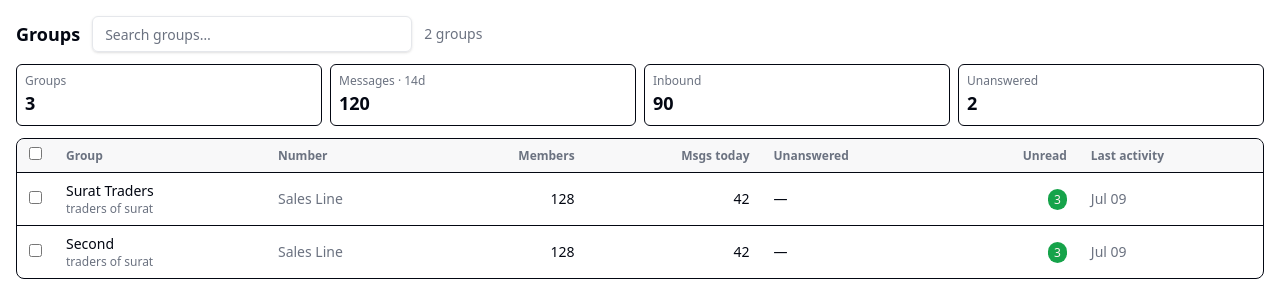
Test: GroupsPage › bulk select tracks rows and select-all toggles
What coordinates should you click on to do the following:
click the checkbox named "Select Surat Traders"
I would click on:
 (36, 198)
Its box is [29,191,42,204].
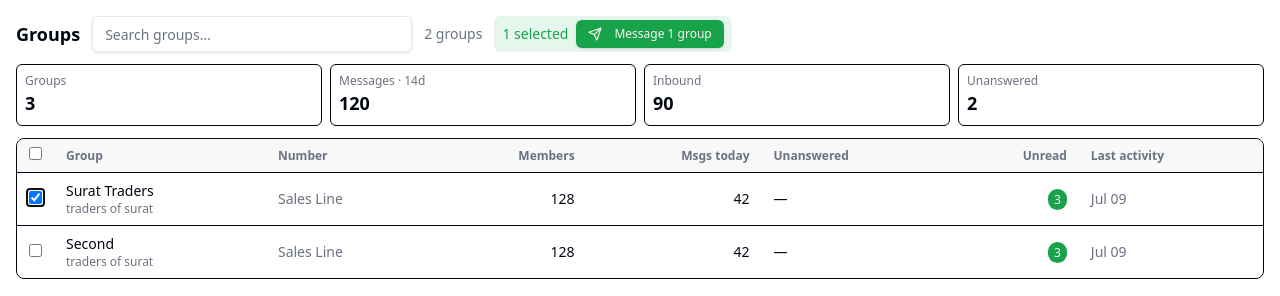
Expected: the element with test id "bulk-bar" shows "1 selected", [494,16,732,52]
What coordinates should you click on to do the following:
click the checkbox named "Select all groups"
I would click on:
 (36, 154)
Its box is [29,147,42,160].
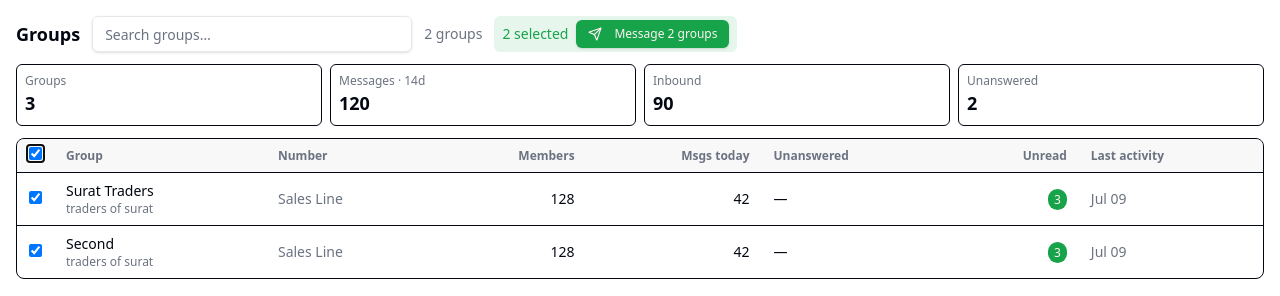
Expected: the element with test id "bulk-bar" shows "2 selected", [494,16,738,52]
What coordinates should you click on to do the following:
click the checkbox named "Select all groups"
I would click on:
 (36, 154)
Its box is [29,147,42,160].
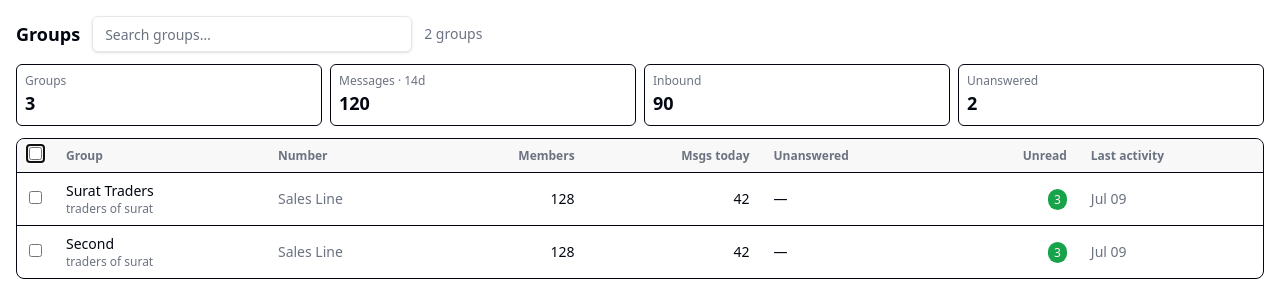
Expected: the element with test id "bulk-bar" is gone
